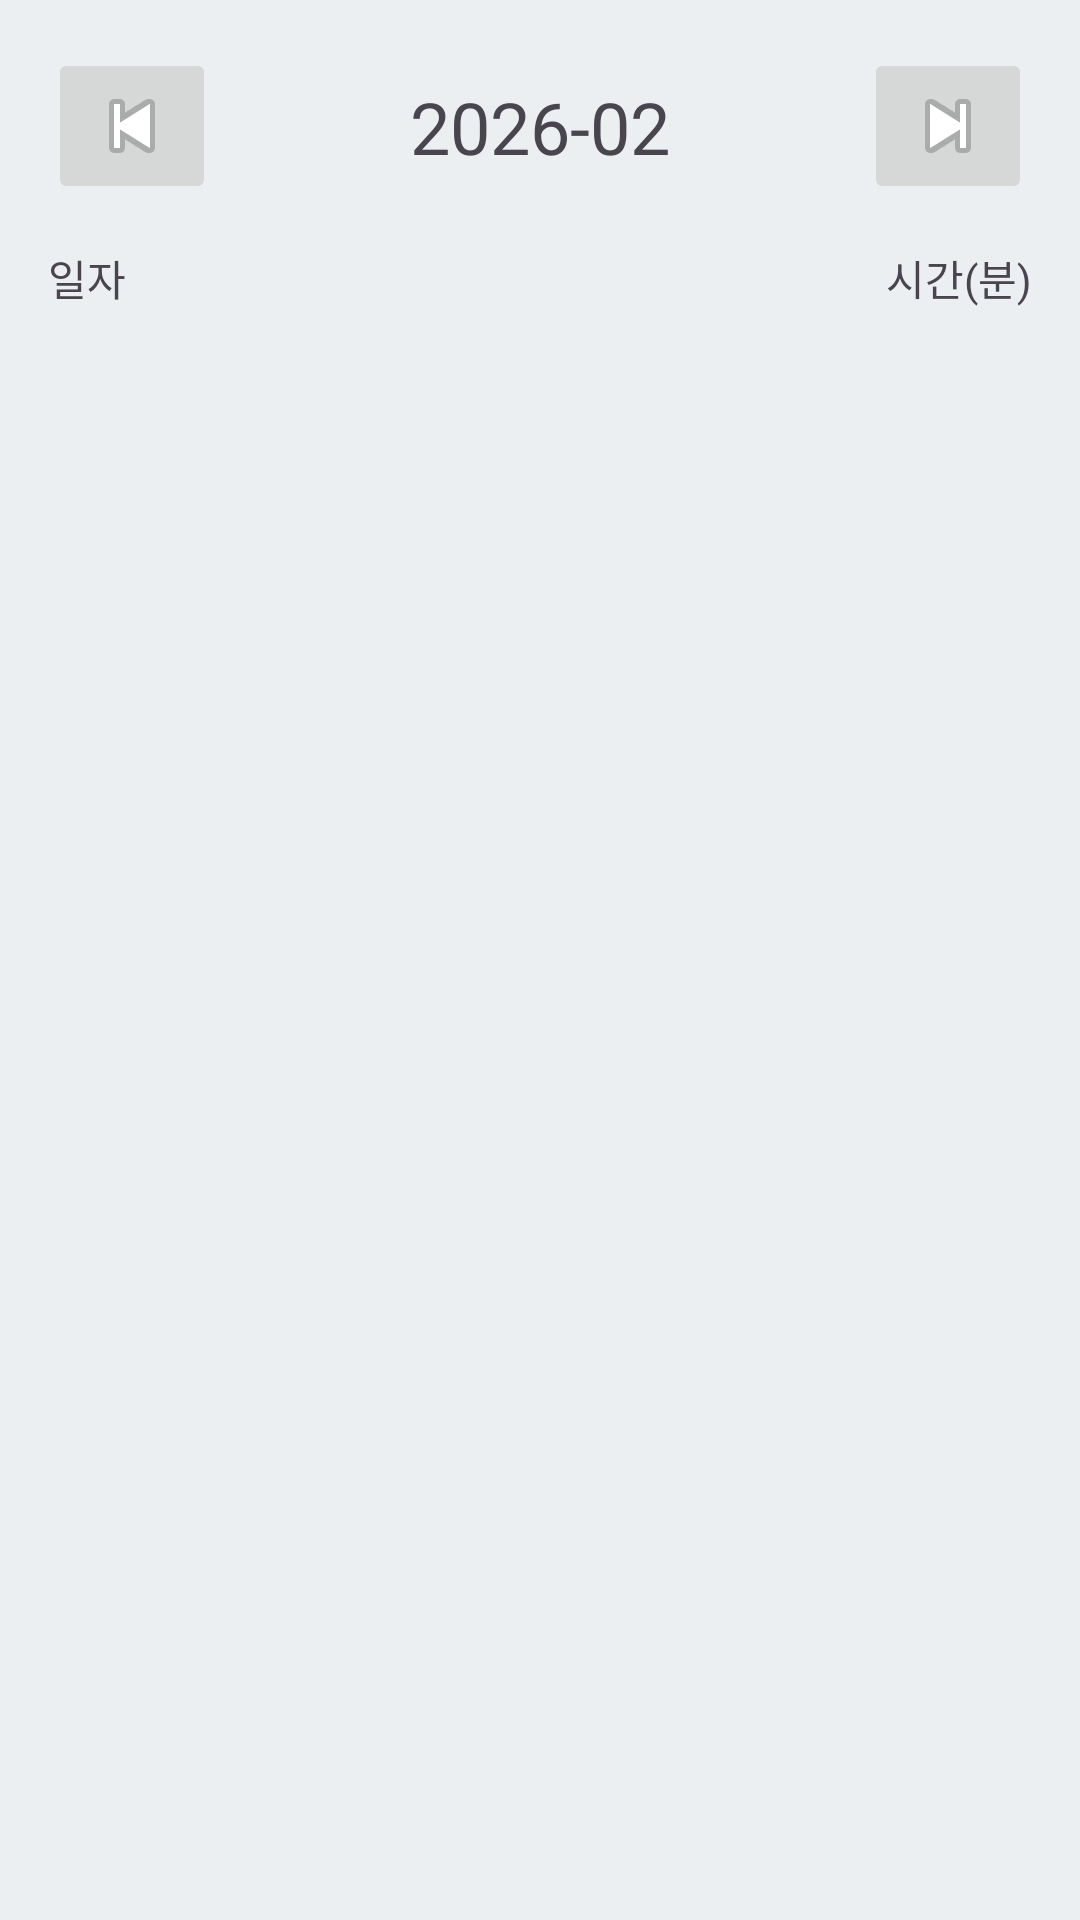

Where icons sit on this 1080w x 1920h app screen, as (x1, y1, x2, y2):
next: (876, 66, 1020, 186)
previous: (60, 66, 204, 186)
